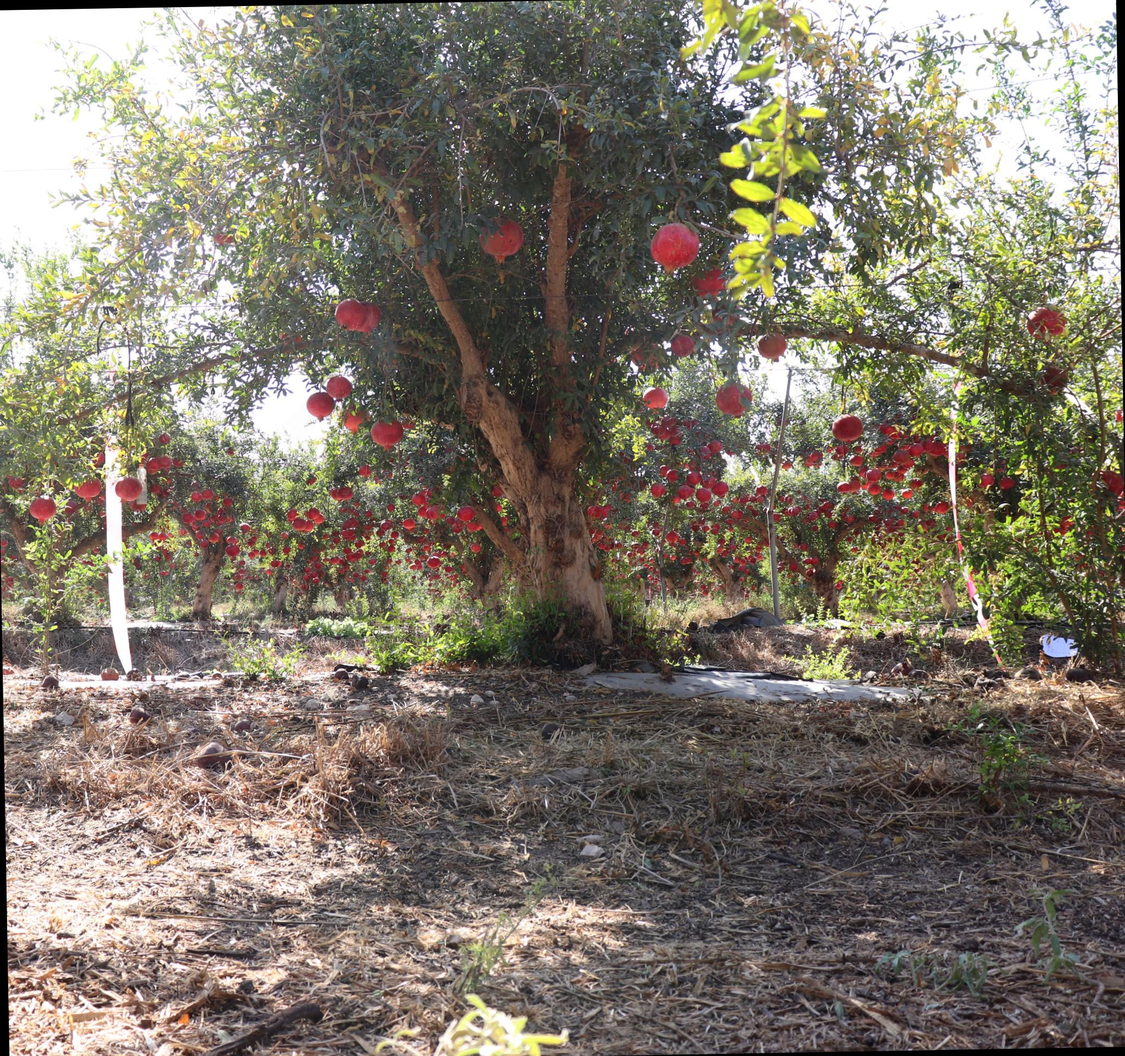pomegranates: (650, 222, 701, 276), (479, 217, 524, 263), (1025, 305, 1066, 341), (715, 382, 752, 419), (692, 265, 727, 299), (1088, 468, 1124, 500), (371, 417, 404, 451), (831, 413, 864, 446), (335, 297, 366, 332), (630, 341, 663, 371), (340, 402, 369, 436), (758, 333, 788, 362), (306, 391, 335, 421), (29, 495, 57, 526), (115, 476, 143, 506), (358, 301, 381, 337), (74, 476, 102, 504), (326, 375, 353, 403), (642, 386, 667, 414), (711, 302, 740, 326), (671, 335, 695, 358), (212, 224, 236, 247), (280, 331, 303, 353)
